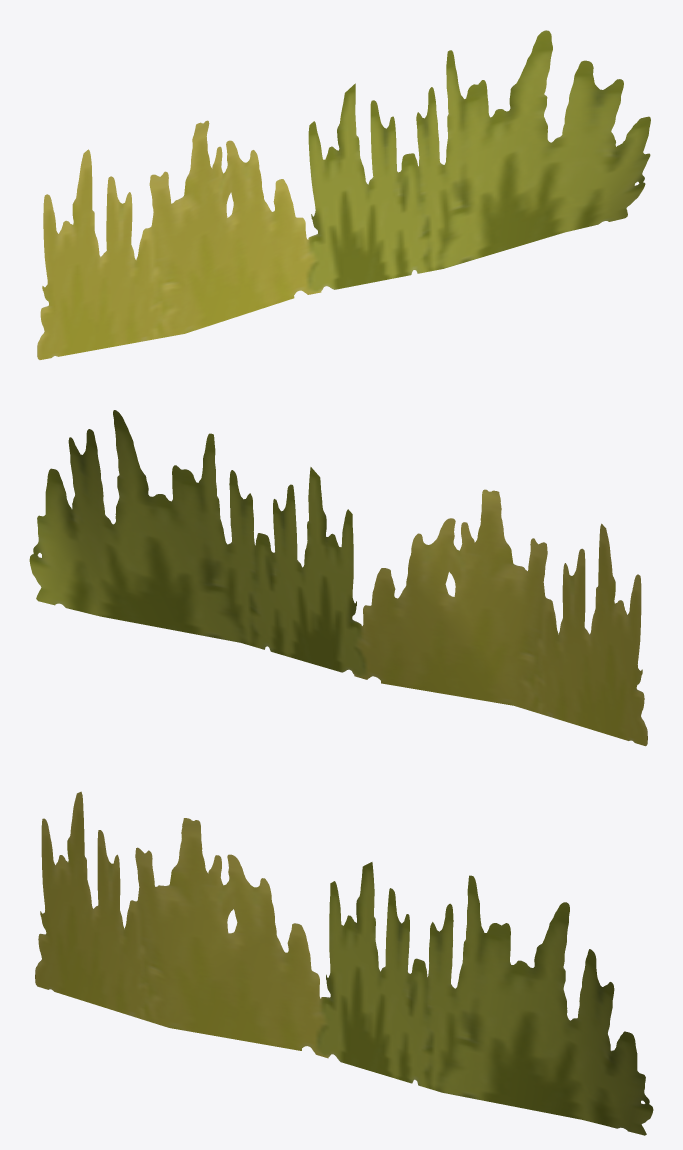
The model's file is Grass_04.fbx.
3 renders of one model, top to bottom at view 1: azimuth 30°, elevation 25°; view 2: azimuth 150°, elevation 25°; view 3: azimuth 330°, elevation 25°, orthographic. The views are drawn at different scales.
Parts seen in each view (by area): view 1: Grass_04; view 2: Grass_04; view 3: Grass_04.
Boxes of the visible parts, x1,y1,x2,y2 form: Grass_04: (37,30,650,359); Grass_04: (29,410,647,746); Grass_04: (35,791,653,1135).
Size of the model in its own units: 149 by 11.47 by 48.94.
